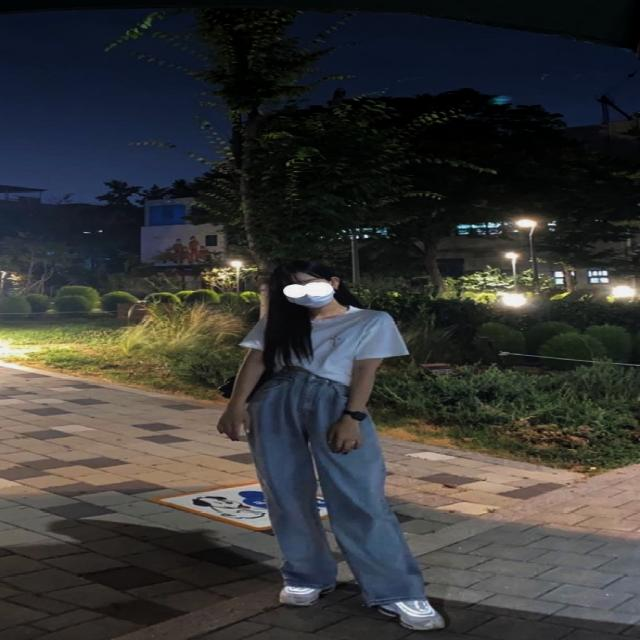denimpants: (247, 366, 426, 608)
shortsleeve: (242, 300, 409, 384)
